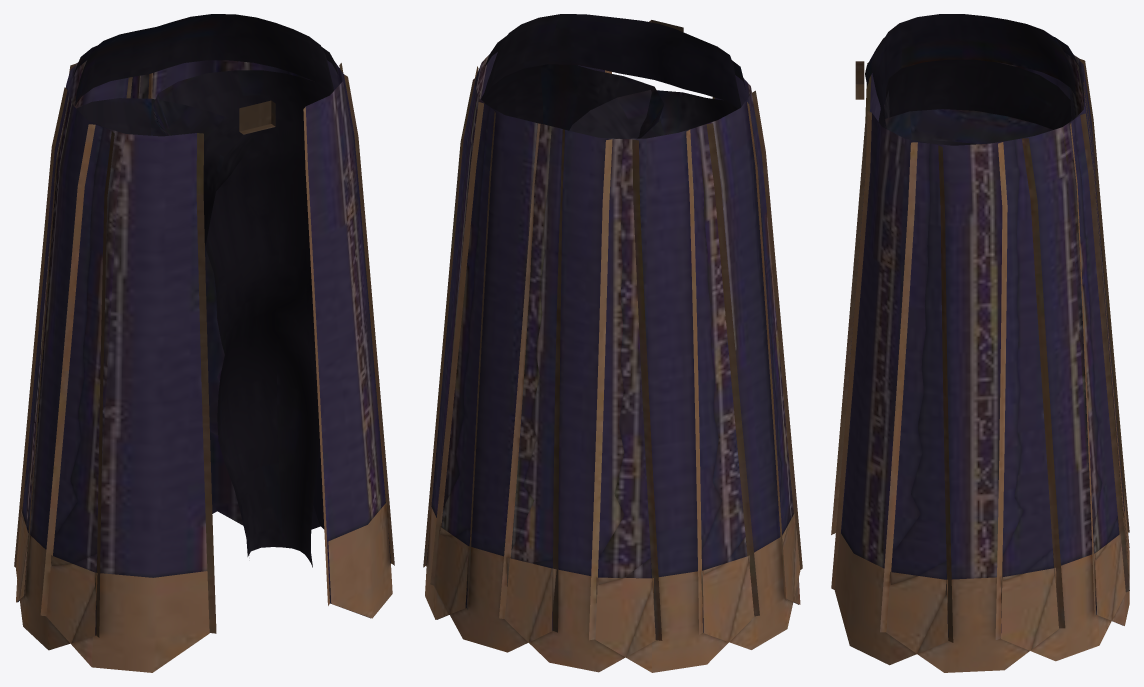
The model's file is Calça_do_Mago_nivel75.glb.
3 renders of one model, left to right at view 1: azimuth 30°, elevation 25°; view 2: azimuth 150°, elevation 25°; view 3: azimuth 270°, elevation 25°, orthographic. The views are drawn at different scales.
Parts seen in each view (by area): view 1: calca_do_mago_nivel75; view 2: calca_do_mago_nivel75; view 3: calca_do_mago_nivel75.
Boxes of the visible parts, x1,y1,x2,y2 form: calca_do_mago_nivel75: [14, 14, 394, 672]; calca_do_mago_nivel75: [423, 14, 802, 672]; calca_do_mago_nivel75: [831, 14, 1129, 672].
Bounding box in the file's own units: 0.5487 × 0.8363 × 0.4277.
1 material, 1 textured.
